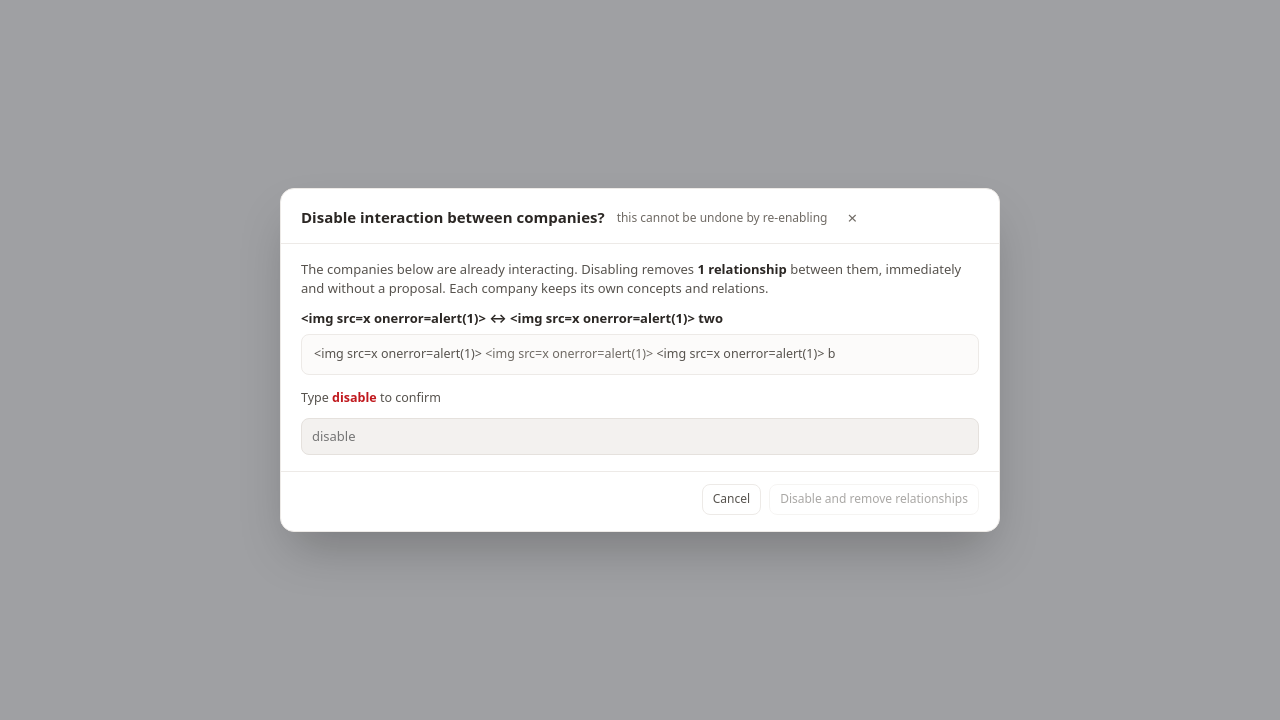
Test case: Companies may interact › asks for the typed word before removing cross-company relationships
Check: the text "Disable interaction between companies?" is shown, box [301,206,605,230]
Check: the button "Disable and remove relationships" is shown, box [769,484,979,515]
In the field with id "ccConfirm": (640, 437) [301,418,979,456], type "disabl"
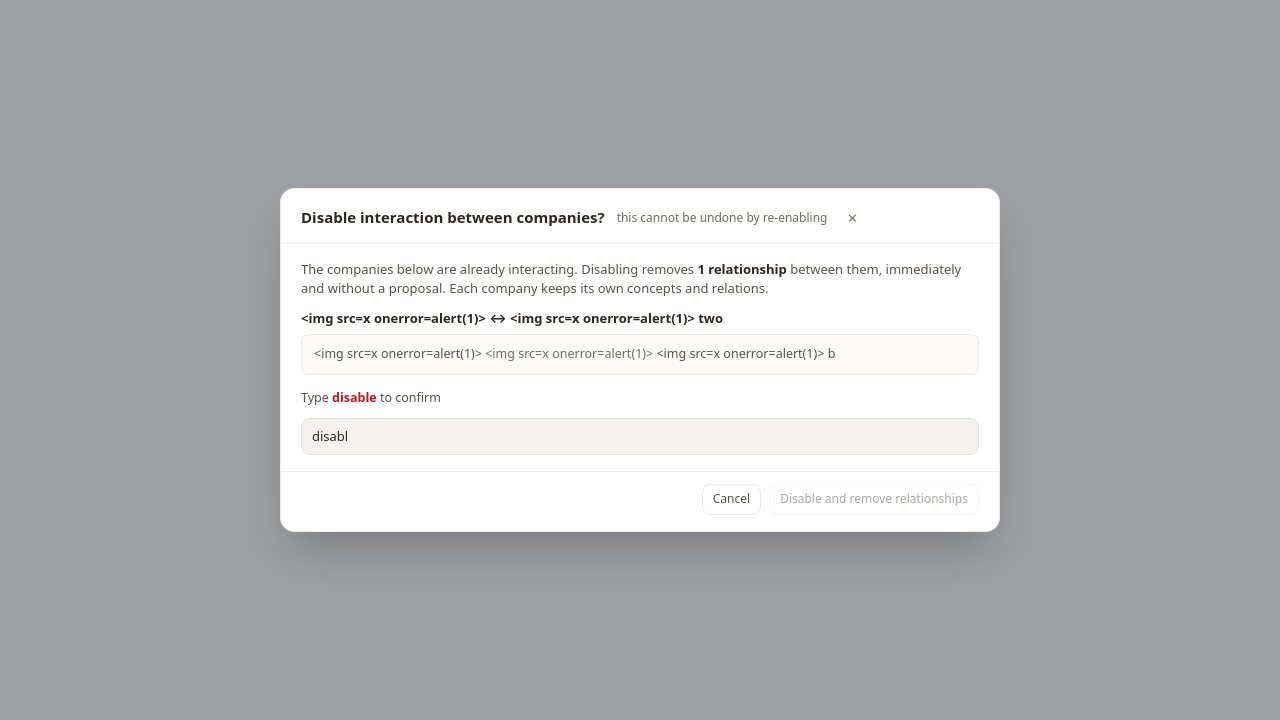
Check: the button "Disable and remove relationships" is disabled, box [769,484,979,515]
Replace the text in the field with id "ccConfirm" with " Disable ": (640, 437) [301,418,979,456]
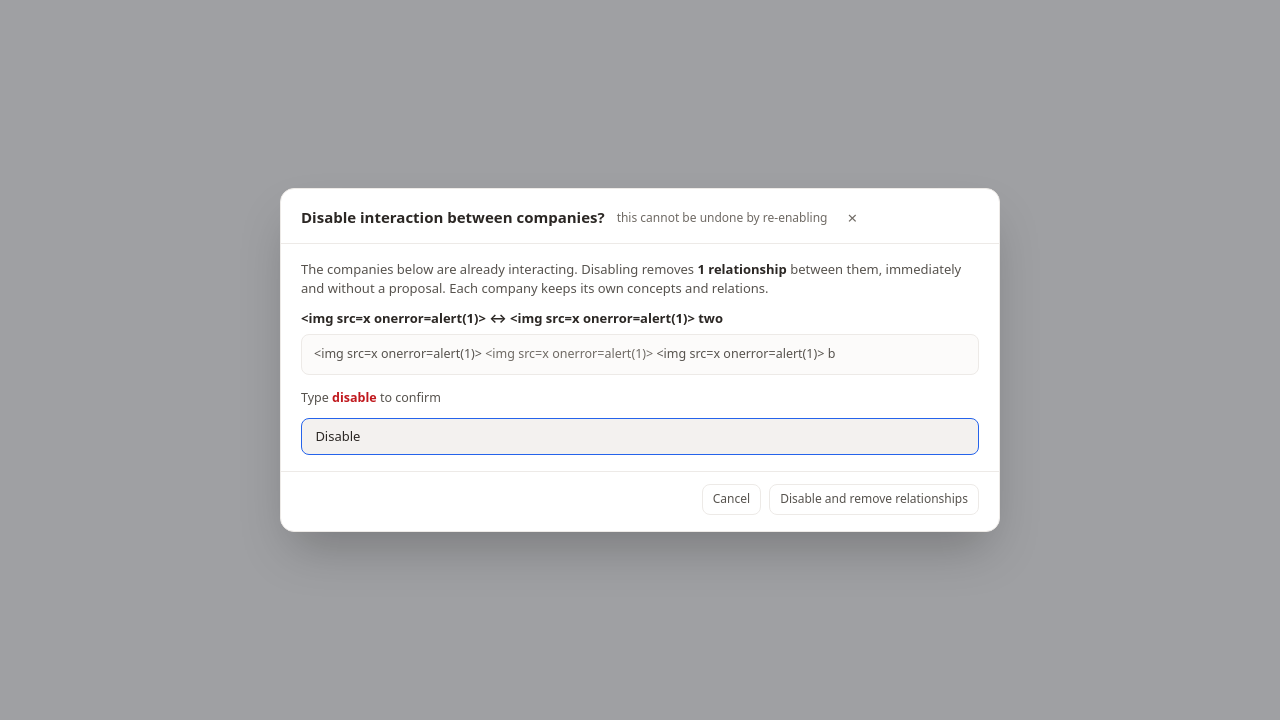
Check: the button "Disable and remove relationships" is enabled, box [769,484,979,515]
